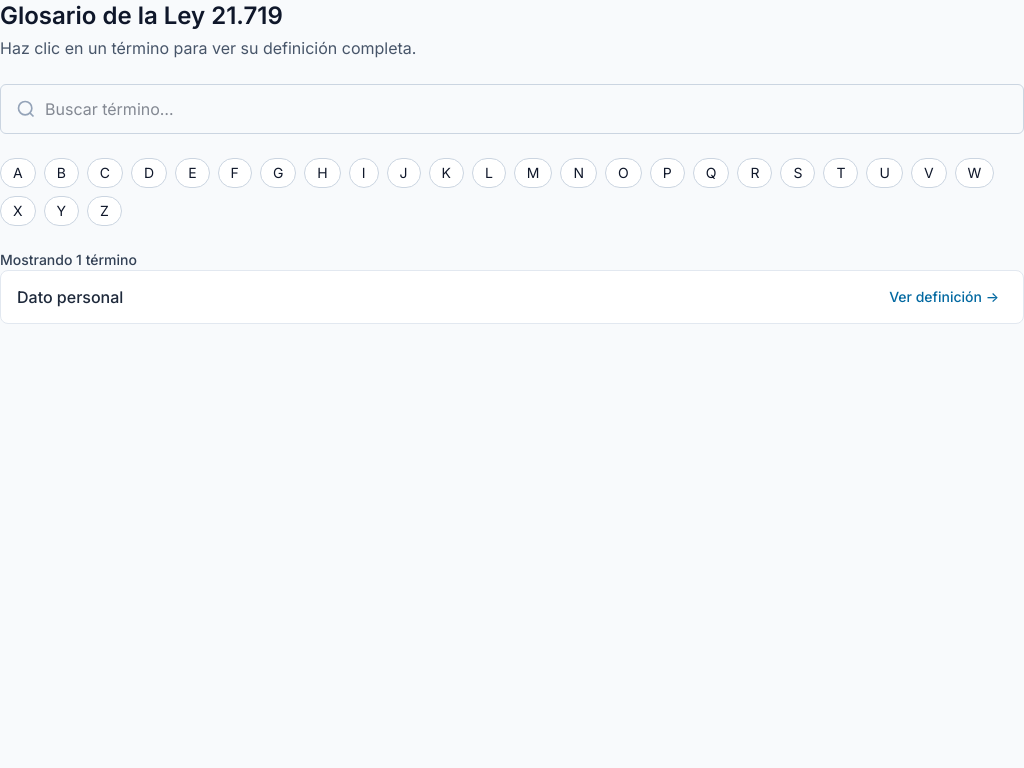
Scenario: Glosario view › lista términos y abre modal de definición
Check: the text "Dato personal" is shown, box left=17, top=285, right=123, bottom=309
Check: the text "Mostrando 1 término" is shown, box left=0, top=251, right=137, bottom=268
Click the button "Ver definición →": click(944, 297) left=881, top=283, right=1007, bottom=311
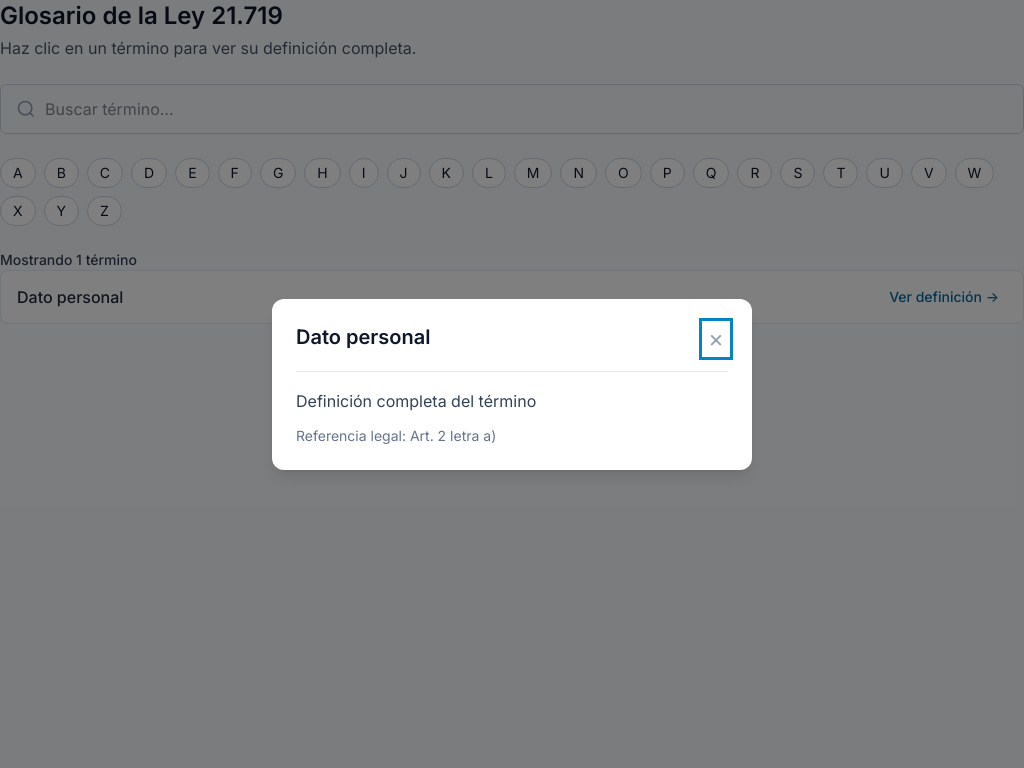
Check: the dialog is shown, box left=272, top=298, right=752, bottom=470
Check: the text "Definición completa del término" is shown, box left=296, top=390, right=536, bottom=410
